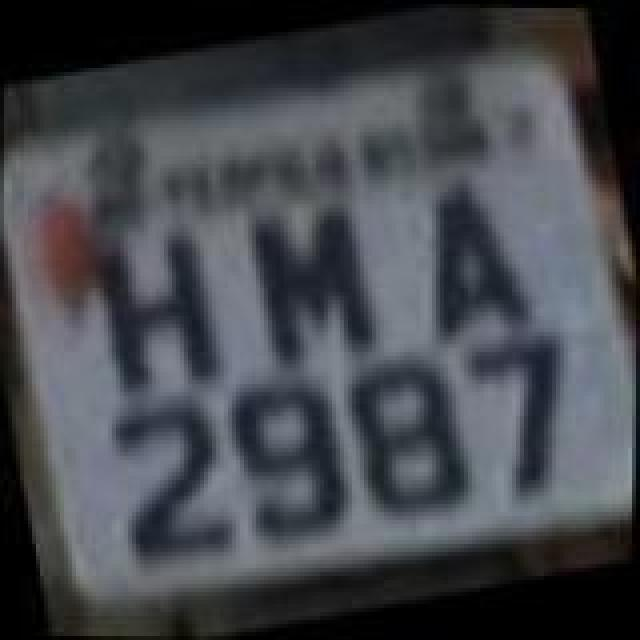2: (100, 386, 244, 574)
7: (458, 324, 590, 500)
8: (338, 342, 478, 530)
9: (220, 368, 364, 548)
A: (406, 166, 538, 338)
H: (84, 216, 232, 404)
M: (244, 192, 384, 380)
